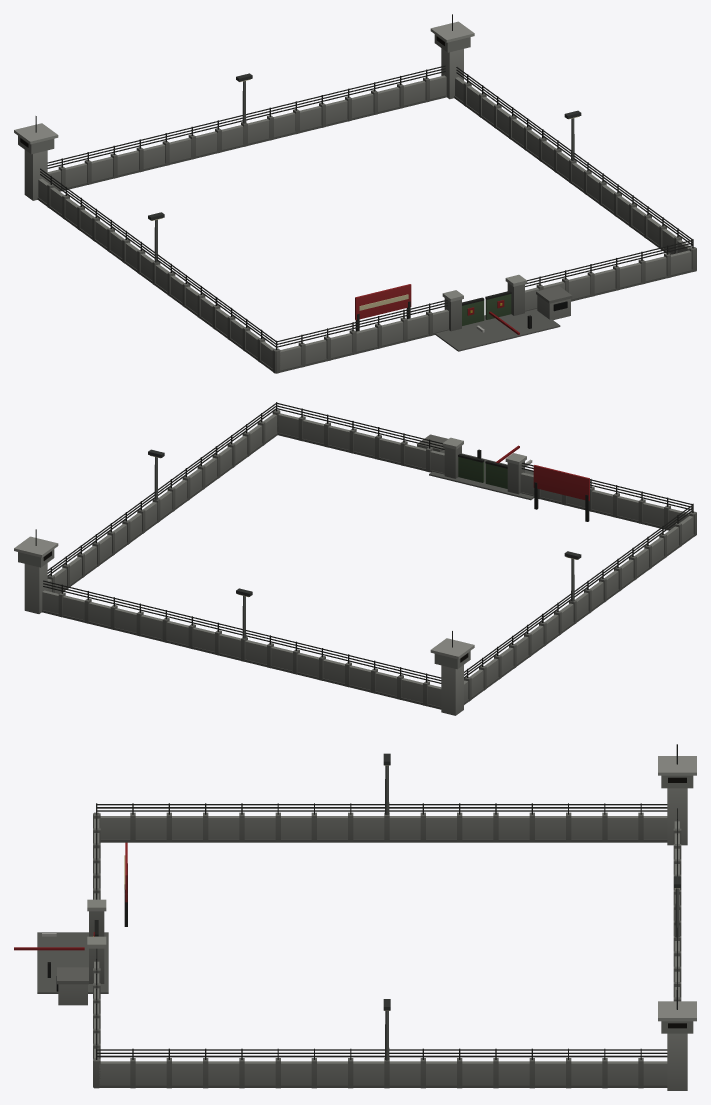
Rendered from m_depot_66e95f5e.glb.
3 views of the same model, one above another, from view 1: azimuth 30°, elevation 25°; view 2: azimuth 150°, elevation 25°; view 3: azimuth 270°, elevation 25° (orthographic). The views are drawn at different scales.
Parts seen in each view (by area): view 1: mesh; view 2: mesh; view 3: mesh.
Boxes of the visible parts, bbox=[...] form: mesh: bbox=[14, 14, 696, 373]; mesh: bbox=[14, 402, 696, 715]; mesh: bbox=[14, 744, 696, 1090].
Size of the model in its own units: 105 by 18 by 115.
